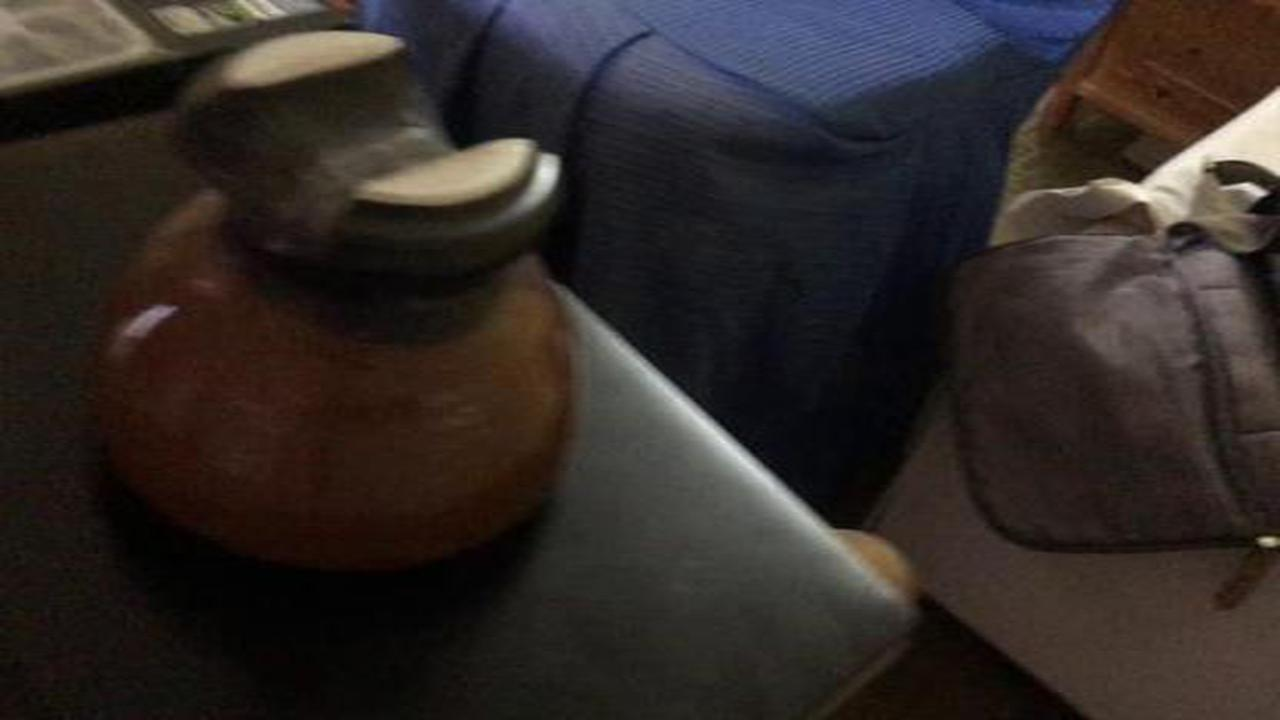insulator_pin: (62, 18, 597, 596)
